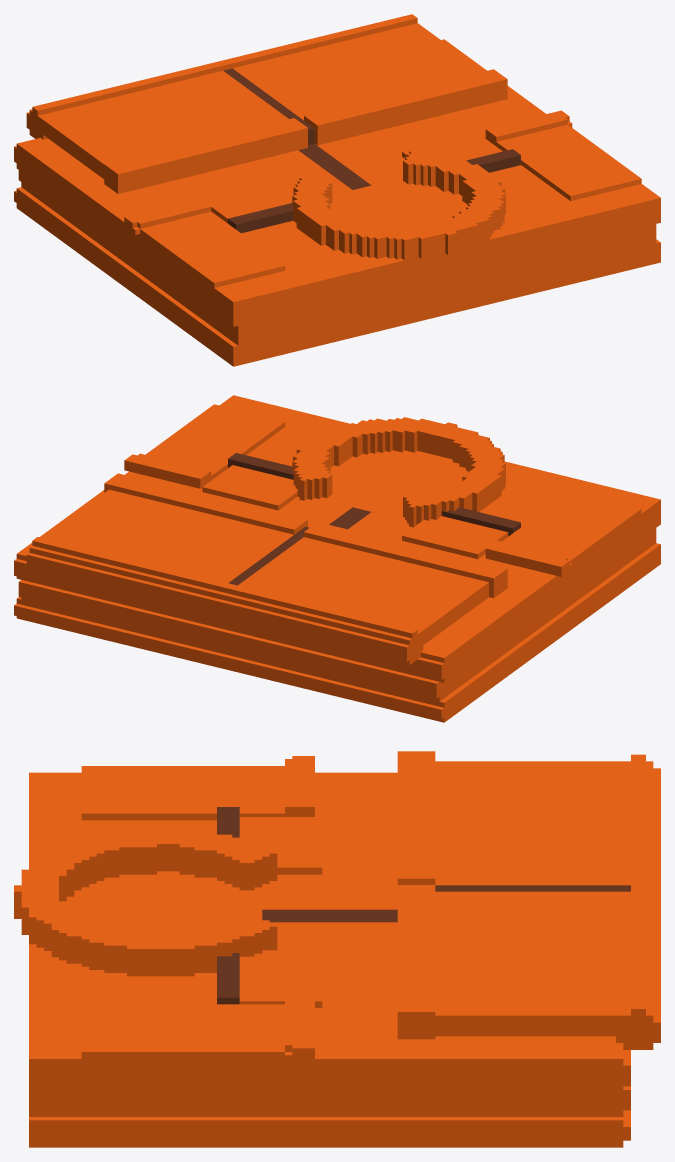
File: jumpsuit.glb
3 renders of one model, top to bottom at view 1: azimuth 30°, elevation 25°; view 2: azimuth 150°, elevation 25°; view 3: azimuth 270°, elevation 25°, orthographic. The views are drawn at different scales.
Parts seen in each view (by area): view 1: jumpsuit:compound; view 2: jumpsuit:compound; view 3: jumpsuit:compound.
Part boxes in pixels (x1,y1,x2,y2): jumpsuit:compound: (14,14,660,366); jumpsuit:compound: (14,395,660,722); jumpsuit:compound: (14,751,660,1147).
Bounding box in the file's own units: 0.368 × 0.072 × 0.344.
